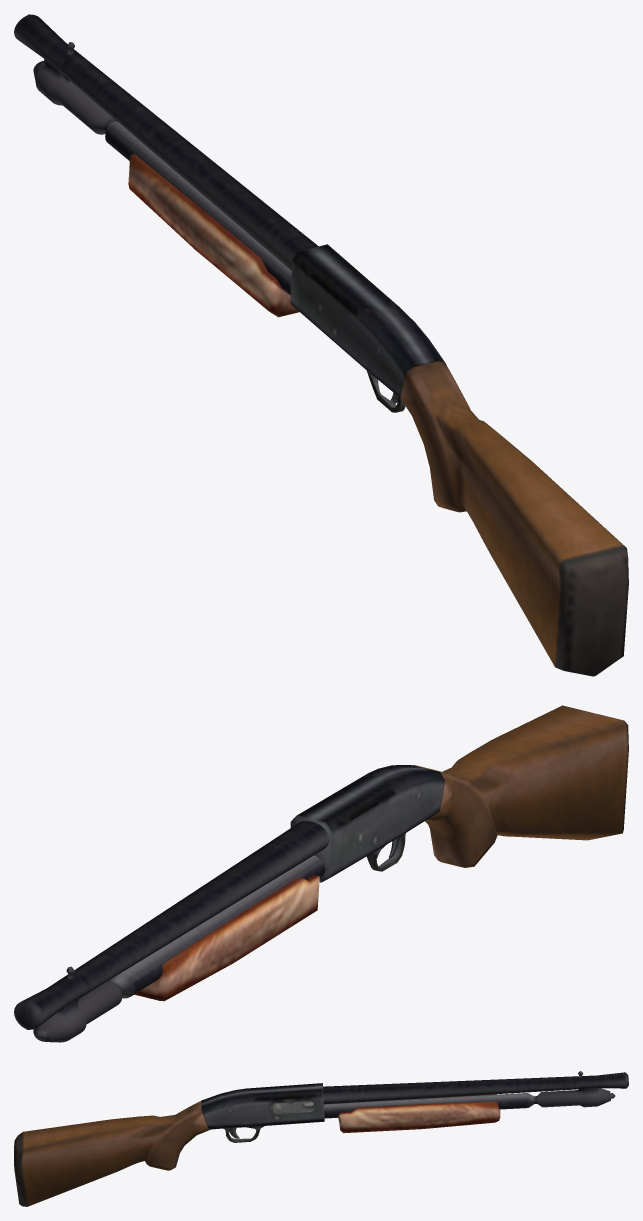
File: Shotgun_PSX_V2.0.fbx
3 views of the same model, one above another, from view 1: azimuth 30°, elevation 25°; view 2: azimuth 150°, elevation 25°; view 3: azimuth 270°, elevation 25° (orthographic). The views are drawn at different scales.
Parts seen in each view (by area): view 1: Body, Forend; view 2: Body, Forend; view 3: Body, Forend, Intake.
Part boxes in pixels (x1,y1,x2,y2): Body: [14, 14, 628, 676]; Forend: [128, 154, 299, 317]; Body: [14, 705, 628, 1042]; Forend: [134, 875, 319, 1001]; Body: [14, 1071, 628, 1206]; Forend: [338, 1094, 500, 1133]; Intake: [273, 1101, 313, 1113].
Bounding box in the file's own units: 69.01 × 245 × 1016.
1 material, 1 textured.
